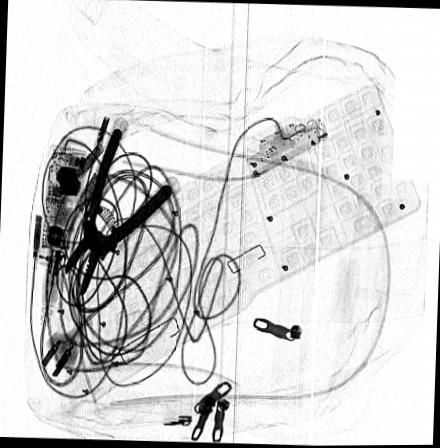Pliers: (62, 127, 171, 299)
